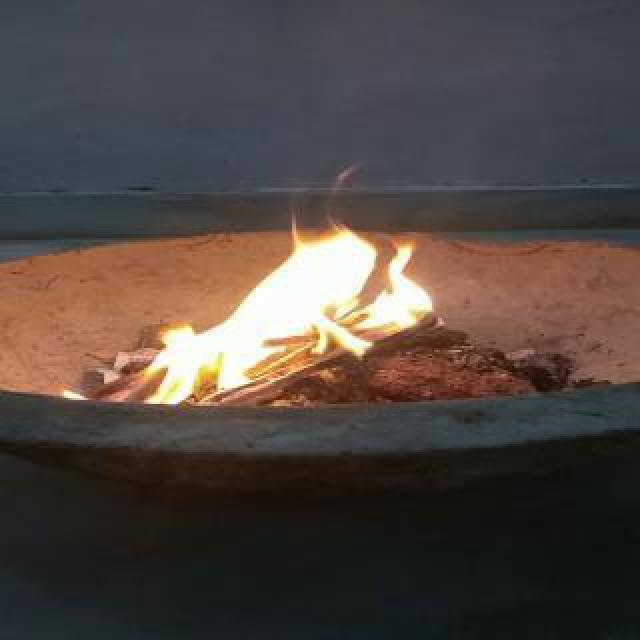Fire: (130, 228, 438, 412)
